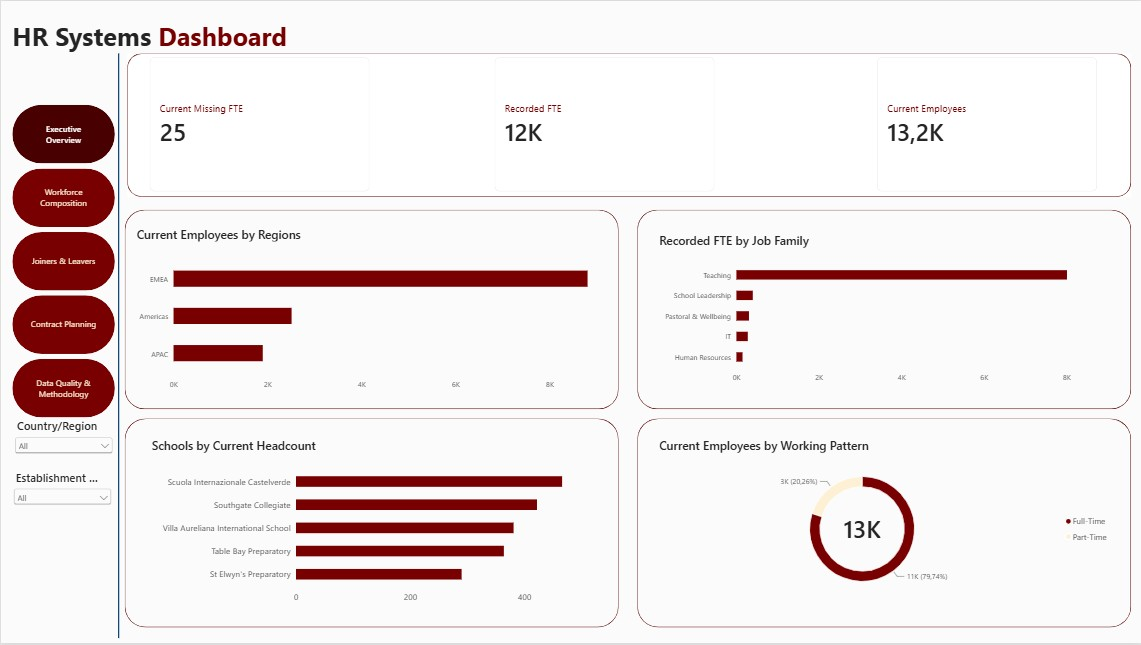

The dashboard page shown, as its layout file describes it:
{"tool":"powerbi","page":{"name":"Executive Overview","canvas":[1920,1080],"ordinal":0},"visuals":[{"type":"shape","box":[213.2,87.8,1691.2,241.4],"z":0},{"type":"shape","box":[208,704,832,352],"z":1000},{"type":"shape","box":[1072,704,832,352],"z":2000},{"type":"shape","box":[1072,352,832,336],"z":3000},{"type":"shape","box":[208,352,832,336],"z":4000},{"type":"textbox","box":[19,29.2,557.3,80.2],"z":5000},{"type":"shape","box":[192,88,13.1,984.8],"z":6000},{"type":"pageNavigator","box":[18.8,174,174,529.8],"z":7000},{"type":"cardVisual","fields":{"Data":["Employees_Reporting.Current Employees Missing FTE"]},"box":[250.6,94.9,370.7,226.8],"z":8000},{"type":"cardVisual","fields":{"Data":["Employees_Reporting.Current FTE"]},"box":[831.8,94.9,370.7,226.8],"z":9000},{"type":"cardVisual","fields":{"Data":["Employees_Reporting.Current Headcount"]},"box":[1476.7,94.9,370.7,226.8],"z":10000},{"type":"clusteredBarChart","title":"Current Employees by Regions","fields":{"Category":["Employees_Reporting.Region"],"Y":["Employees_Reporting.Current Headcount"]},"box":[213.5,363.2,814,311.4],"z":11000},{"type":"clusteredBarChart","title":"Recorded FTE by Job Family","fields":{"Category":["Employees_Reporting.Job Family"],"Y":["Employees_Reporting.Current FTE"]},"box":[1092.7,375.1,794.7,287.6],"z":12000},{"type":"clusteredBarChart","title":"Schools by Current Headcount","fields":{"Category":["Employees_Reporting.Establishment Name"],"Y":["Employees_Reporting.Current Headcount"]},"box":[237.2,720.6,768,314.3],"z":13000},{"type":"donutChart","title":"Current Employees by Working Pattern","fields":{"Category":["Employees_Reporting.Contract Type"],"Y":["Employees_Reporting.Current Headcount"]},"box":[1092.6,720.8,795.4,297.1],"z":14000},{"type":"slicer","fields":{"Values":["Employees_Reporting.Country/Region"]},"box":[19.3,704.2,173.5,86],"z":15000},{"type":"slicer","fields":{"Values":["Employees_Reporting.Establishment Name"]},"box":[17.8,790.2,173.5,68.2],"z":16000}]}

Visuals, with their boxes in screenshot pixels (x1, y1, x2, y2), scaled from the page's 1920x1080 canvas onto the 1141x645 screenshot:
shape: 127,52,1132,197
shape: 124,420,618,631
shape: 637,420,1131,631
shape: 637,210,1131,411
shape: 124,210,618,411
textbox: 11,17,342,65
shape: 114,53,122,641
pageNavigator: 11,104,115,420
cardVisual - Employees_Reporting.Current Employees Missing FTE: 149,57,369,192
cardVisual - Employees_Reporting.Current FTE: 494,57,715,192
cardVisual - Employees_Reporting.Current Headcount: 878,57,1098,192
"Current Employees by Regions" clusteredBarChart: 127,217,611,403
"Recorded FTE by Job Family" clusteredBarChart: 649,224,1122,396
"Schools by Current Headcount" clusteredBarChart: 141,430,597,618
"Current Employees by Working Pattern" donutChart: 649,430,1122,608
slicer - Employees_Reporting.Country/Region: 11,421,115,472
slicer - Employees_Reporting.Establishment Name: 11,472,114,513
